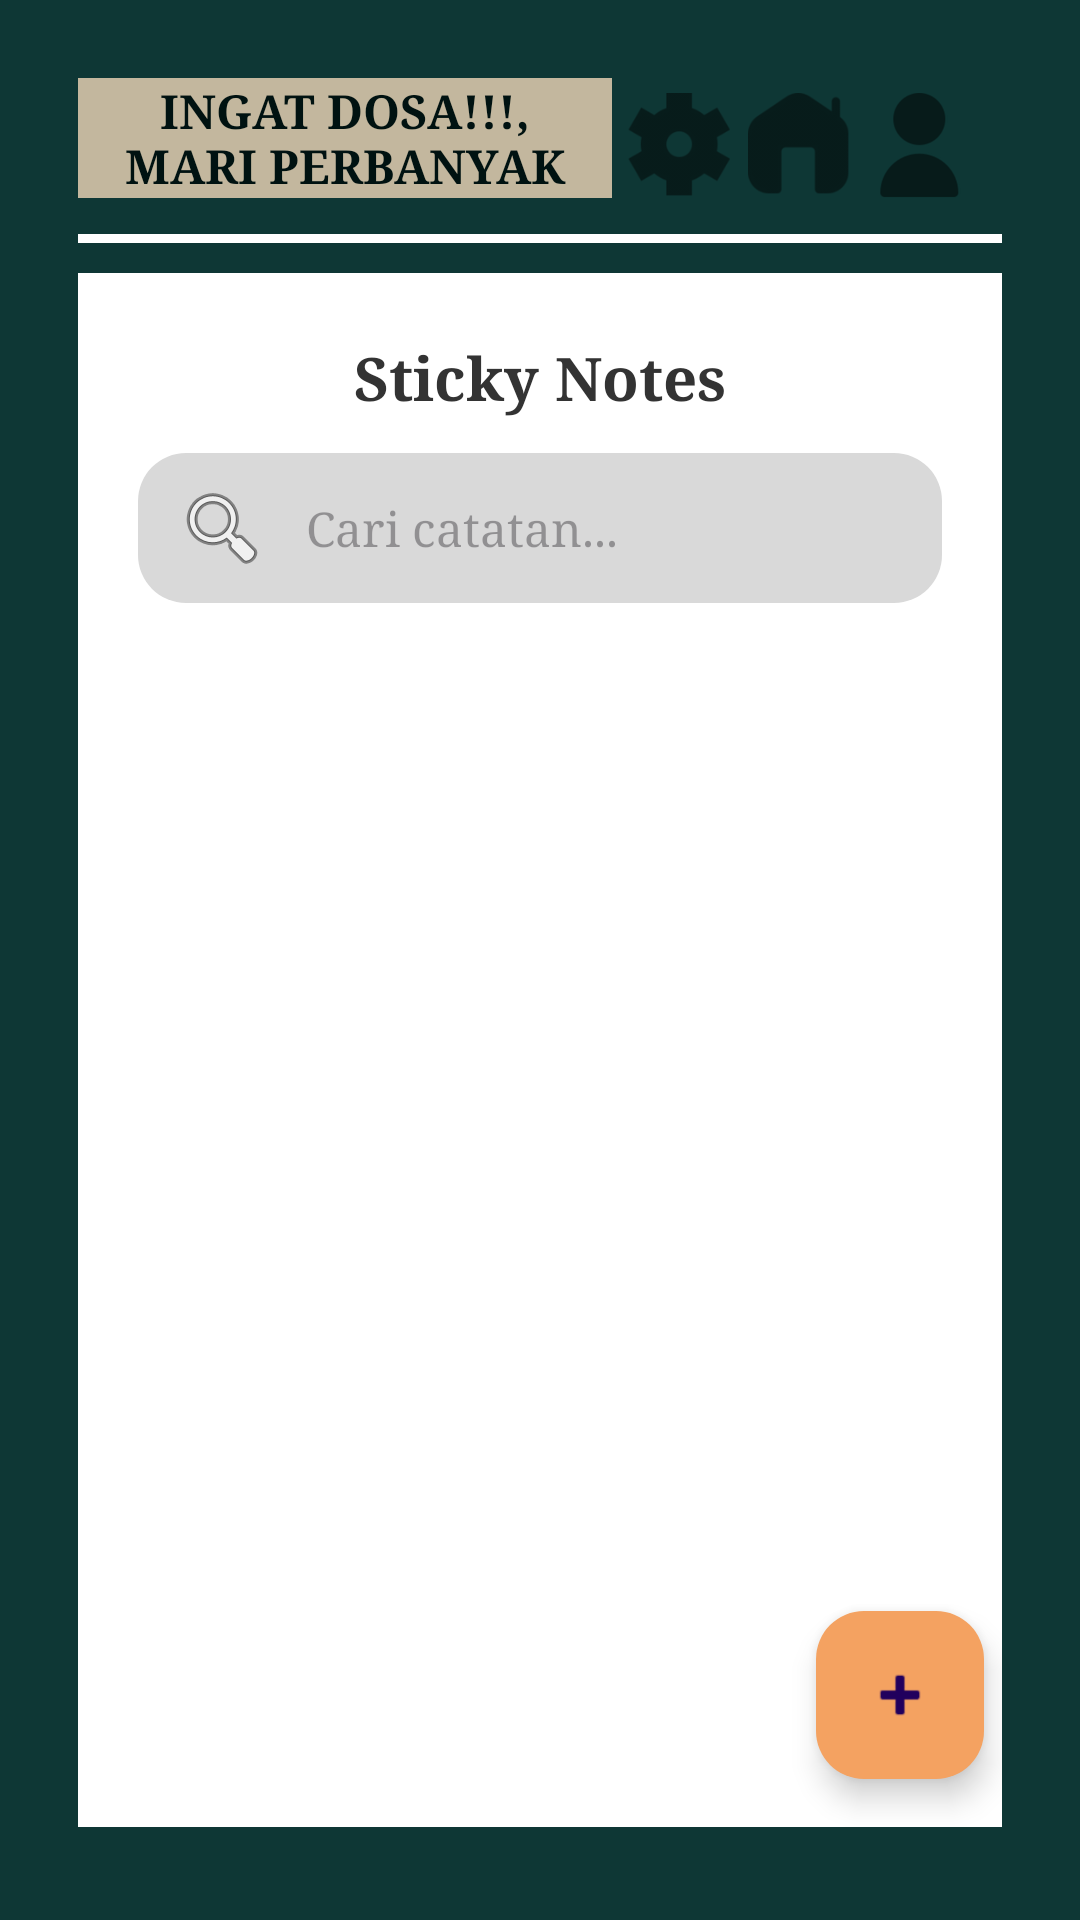

Icons on this 1080*1920 Android screen, each with its box as [x1, y1, x2, y2]:
add: [816, 1611, 984, 1779]
Home: [748, 93, 848, 193]
Pengaturan: [630, 93, 729, 195]
User Profile: [881, 93, 958, 197]
